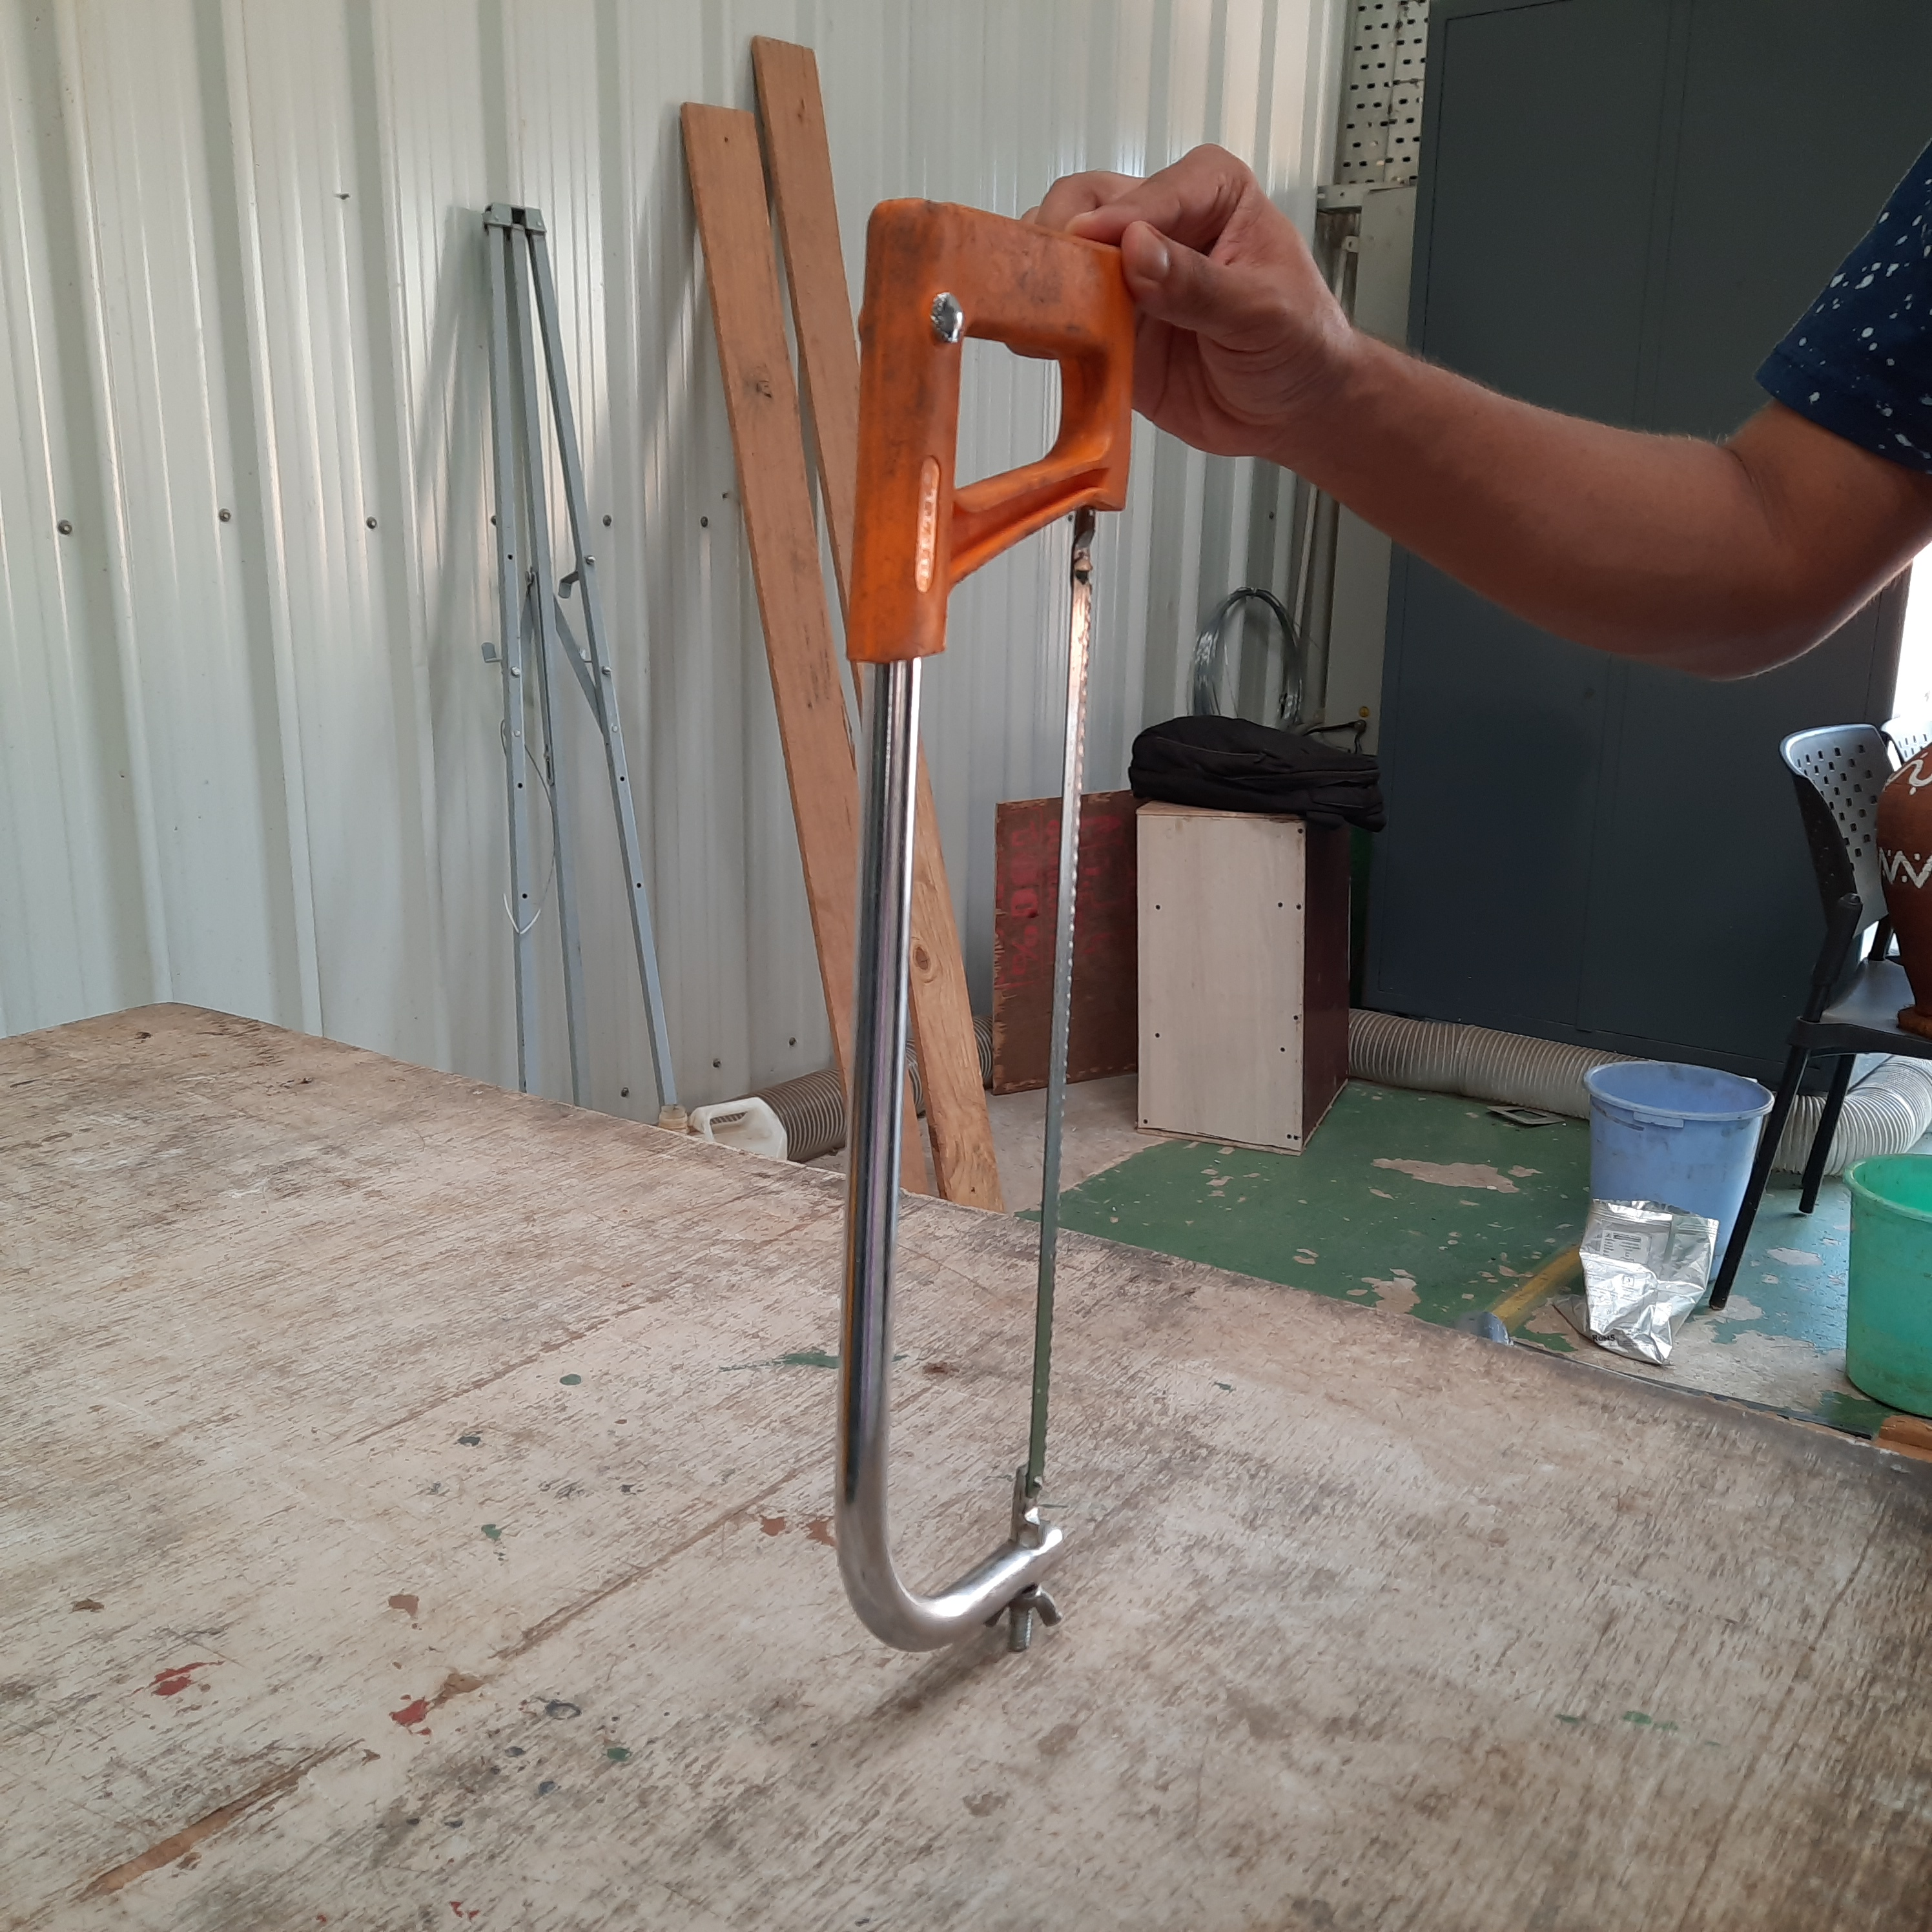Hexaframe: (839, 196, 1079, 1649)
